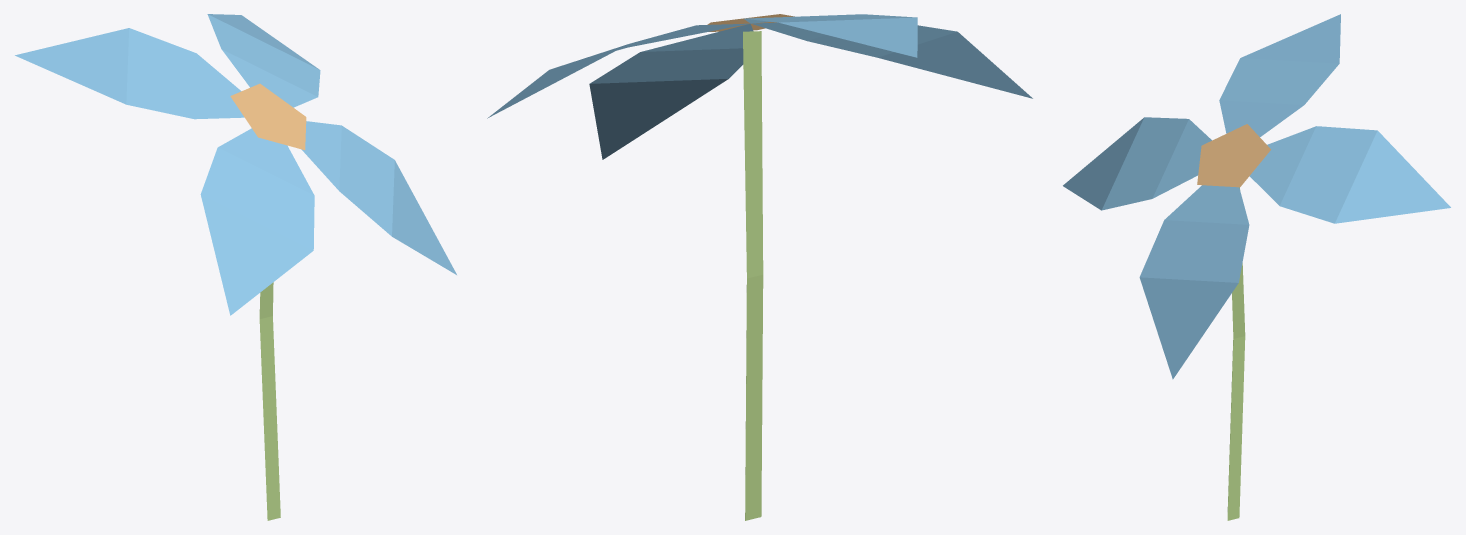
Rendered from Flower_a_OneS_05.fbx.
3 renders of one model, left to right at view 1: azimuth 30°, elevation 25°; view 2: azimuth 150°, elevation 25°; view 3: azimuth 270°, elevation 25°, orthographic. The views are drawn at different scales.
Parts seen in each view (by area): view 1: Flower_a_OneS_05; view 2: Flower_a_OneS_05; view 3: Flower_a_OneS_05.
Part boxes in pixels (<box>): Flower_a_OneS_05: <box>15,14,456,520</box>; Flower_a_OneS_05: <box>487,14,1032,520</box>; Flower_a_OneS_05: <box>1063,14,1450,520</box>.
Bounding box in the file's own units: 45.62 × 58.12 × 49.
